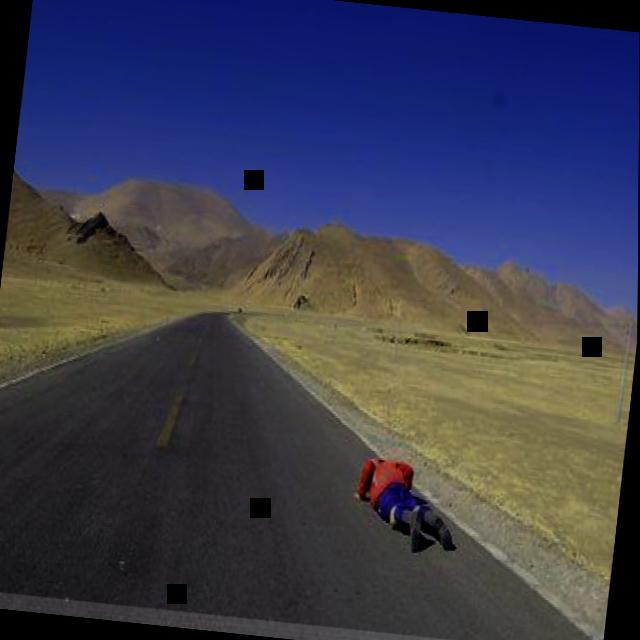Fall-Detected: (344, 438, 468, 557)
